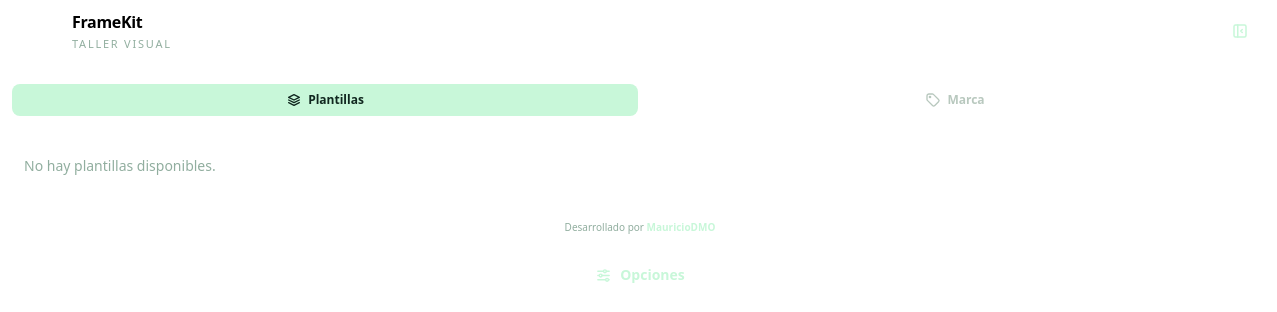
it: StudioSidebar › hides the account settings link without a user but keeps appearance controls
Step 1. Click the button "Opciones" → {"x": 640, "y": 275}, box [20, 255, 1260, 295]
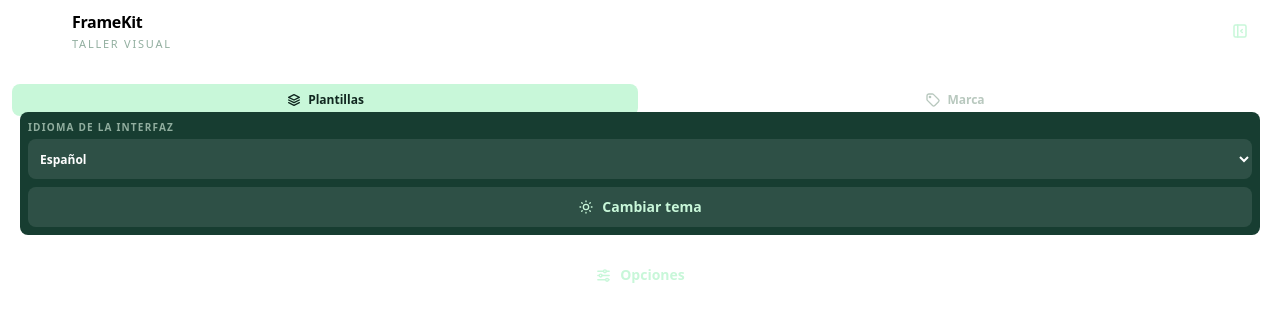
Check: the dropdown labelled "Idioma de la interfaz" is shown, box [28, 139, 1252, 179]
Check: the button "Cambiar tema" is shown, box [28, 187, 1252, 227]
